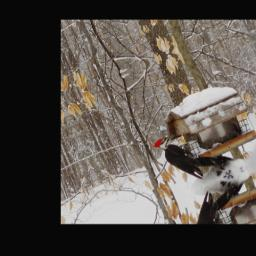Woodpecker: (150, 117, 230, 193)
